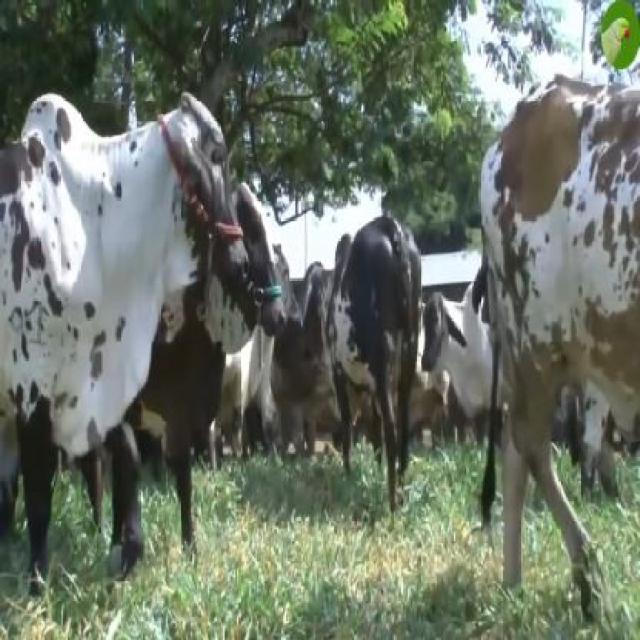Cow: (0, 89, 245, 585)
